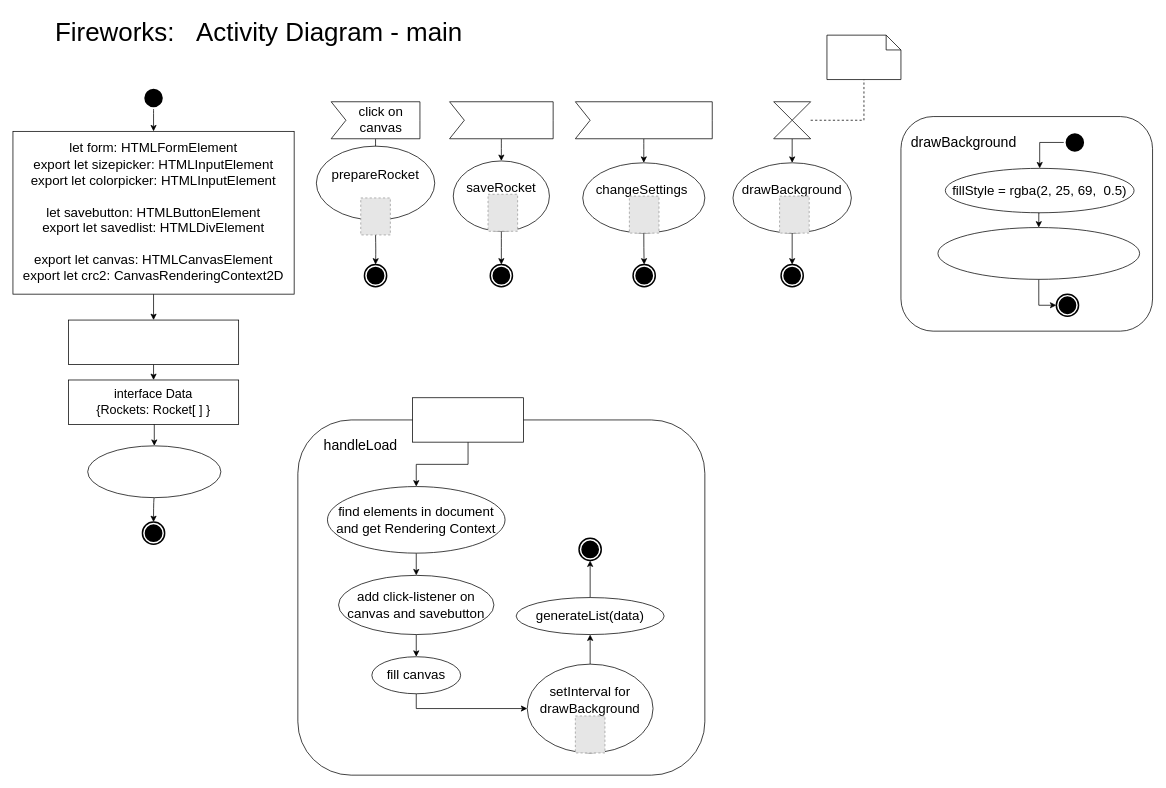
Some shapes in this 1166 by 788 pixel diagram are drawn without their labels. Grey dashed boxes stand in for pictures. The centre of each missing label's shape, as x and y in pixels:
300ms: [863,57]
_event: Event: [468,419]
click on button in savedlist: [643,120]
click on savebutton: [501,120]
fillRect (0, 0, canvas.width, canvas.height): [1038,253]
install load listener: [154,471]
interface Rocket { size: string; color: string }: [153,341]
